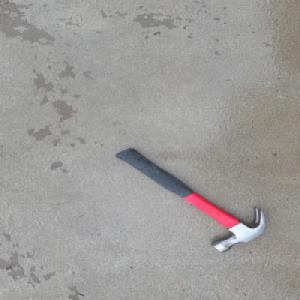Hammer: (113, 145, 266, 252)
